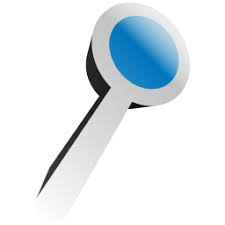searchIcon: (6, 1, 192, 207)
